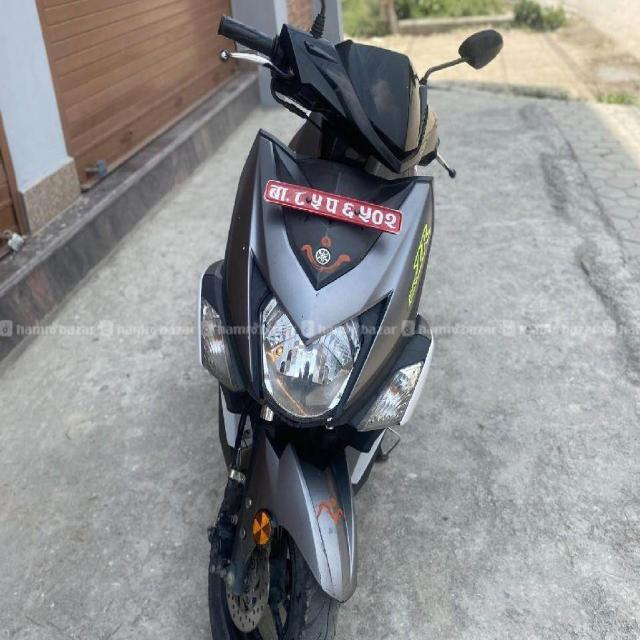License-plate: (265, 178, 401, 235)
